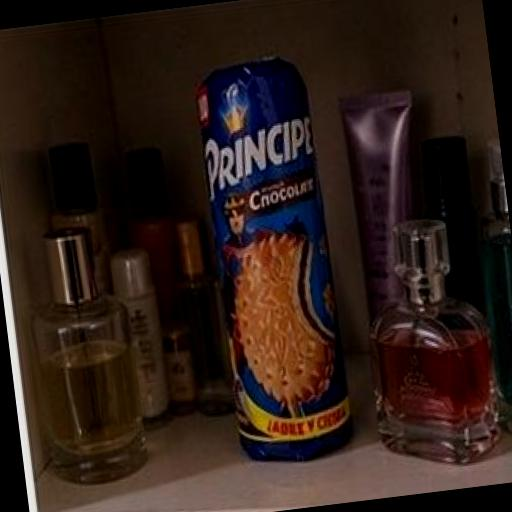prince: (141, 10, 509, 512)
